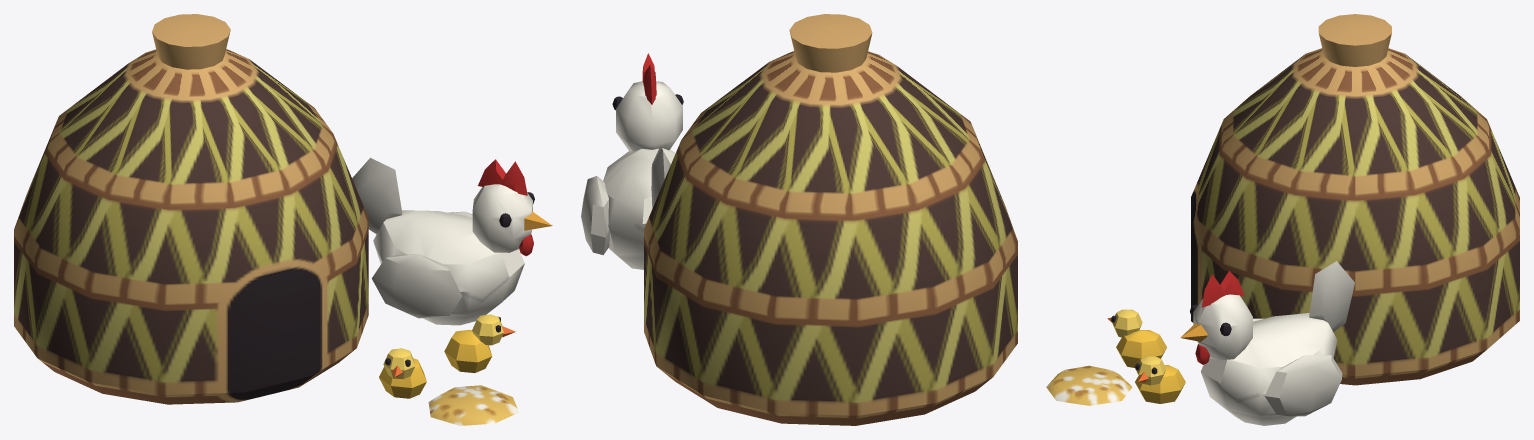
Rendered from chicken_coop.glb.
3 views of the same model, side by side, from view 1: azimuth 30°, elevation 25°; view 2: azimuth 150°, elevation 25°; view 3: azimuth 270°, elevation 25° (orthographic). The views are drawn at different scales.
Visible parts, largest first — view 1: chicken_coop; view 2: chicken_coop; view 3: chicken_coop.
Boxes of the visible parts, x1,y1,x2,y2 form: chicken_coop: (14, 14, 552, 425); chicken_coop: (581, 14, 1017, 425); chicken_coop: (1046, 14, 1519, 425).
Bounding box in the file's own units: 1.44 × 1 × 1.45.
Materials: 1 (1 with a texture image).
